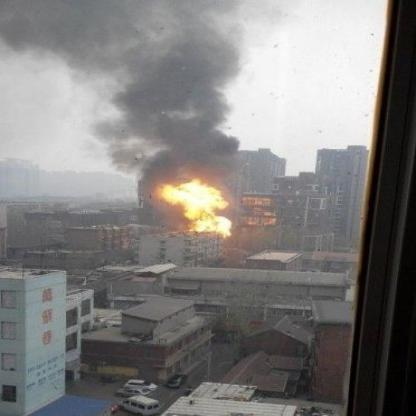fire: (161, 179, 224, 205), (190, 215, 233, 234), (180, 204, 218, 220)
